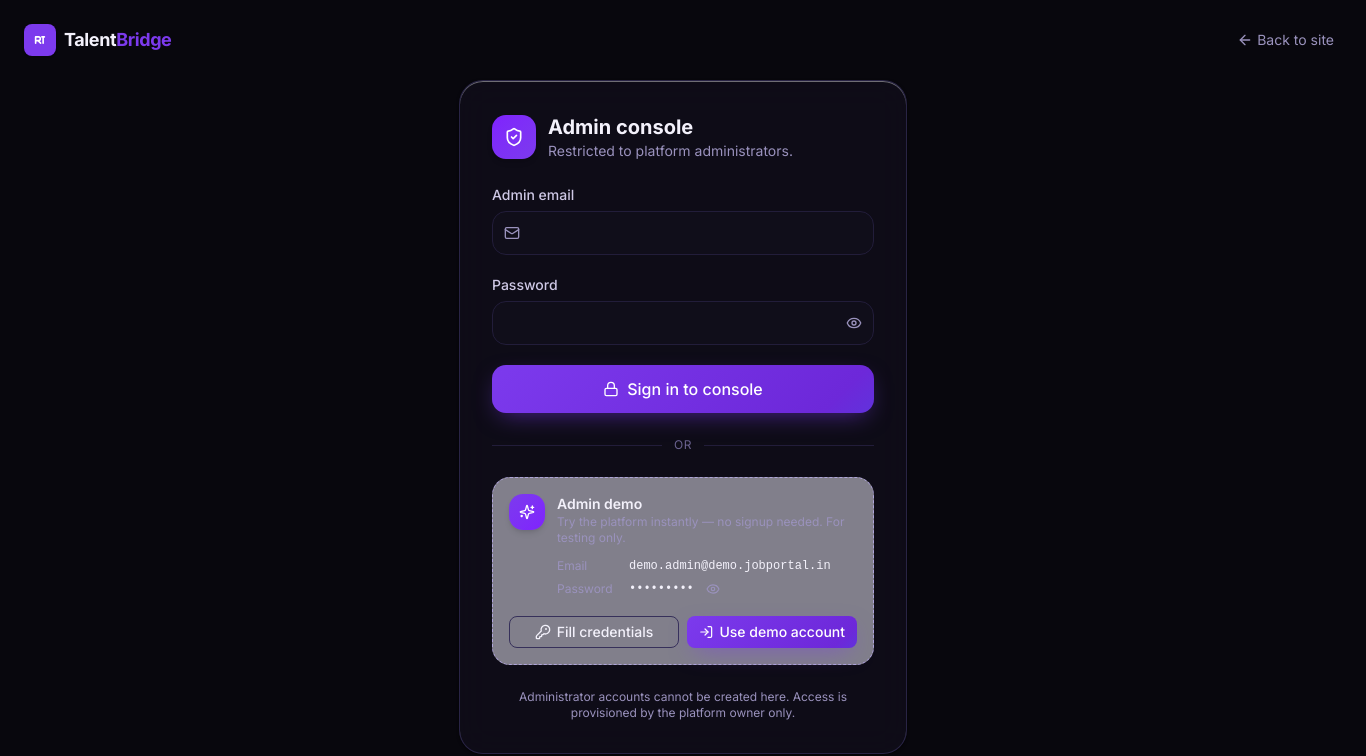
admin login page › rejects non-admin credentials with the backend message
Type "asha.verma@demo.jobportal.in" into the field labelled "Admin email".
click(683, 233); type("asha.verma@demo.jobportal.in")  # box [492, 211, 874, 255]
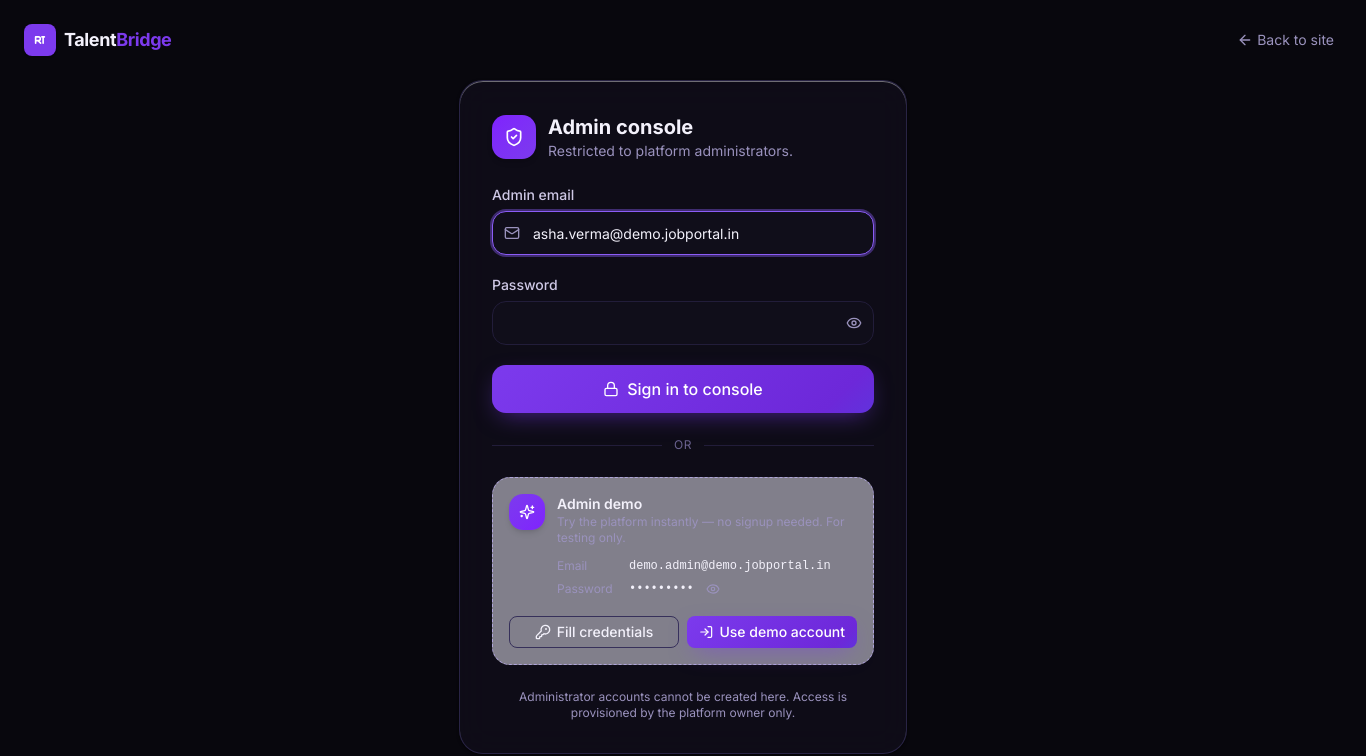
Type "Demo@1234" into the password field labelled "Password".
click(683, 323); type("Demo@1234")  # box [492, 301, 874, 345]
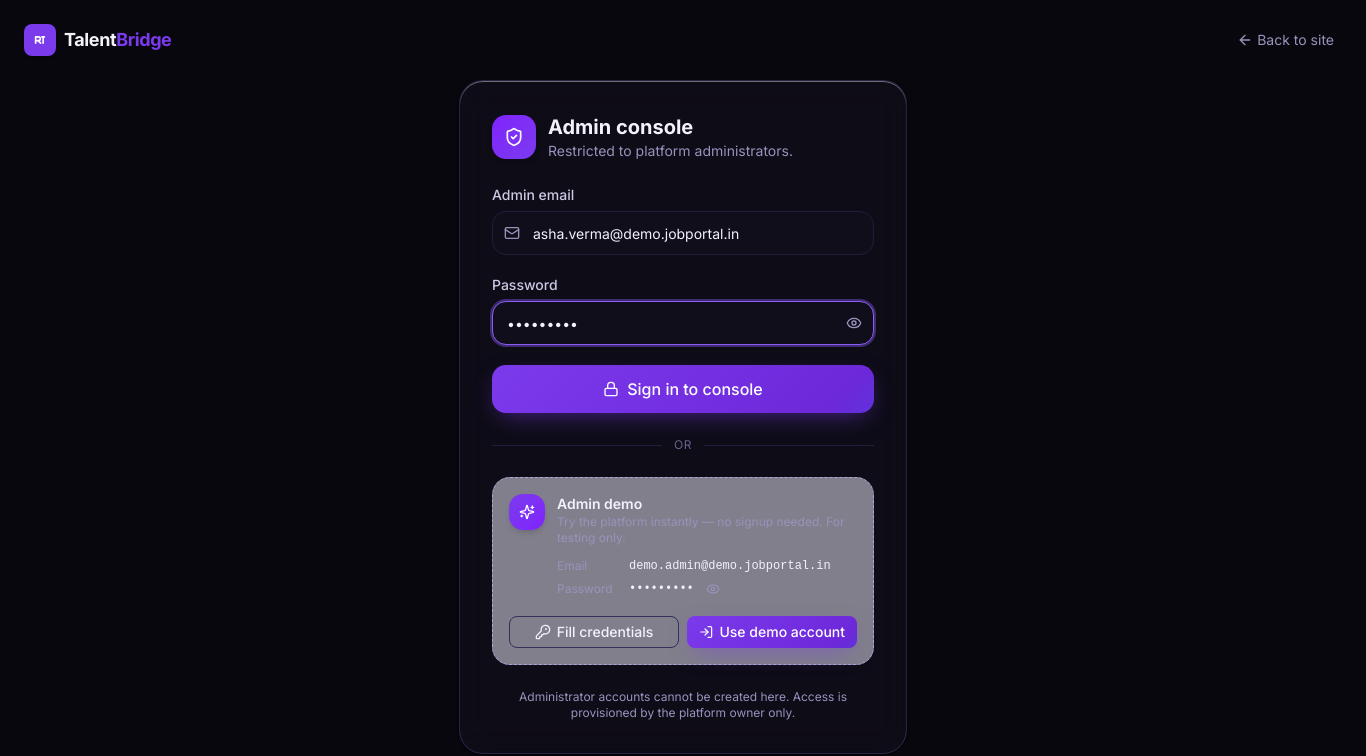
Click the button "Sign in to console".
click(683, 389)  # box [492, 365, 874, 413]
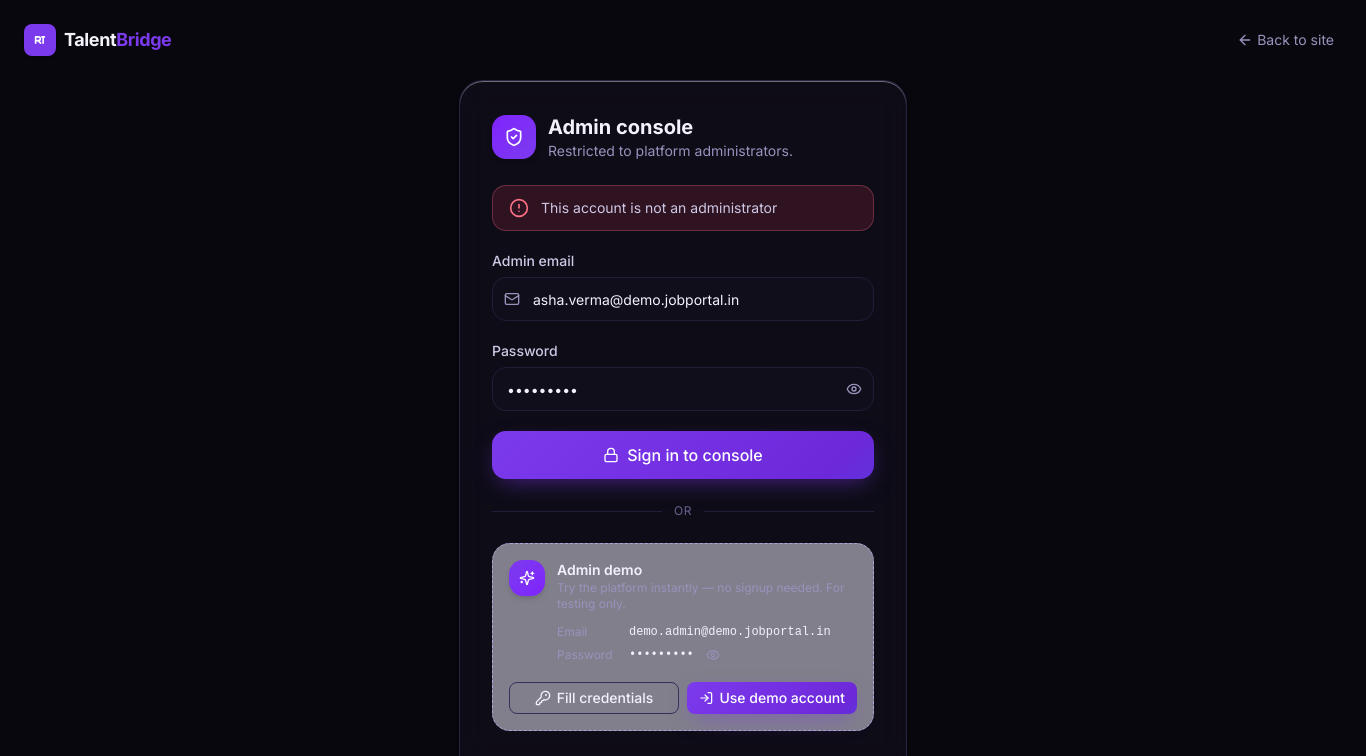
Now the message shows "not an administrator", box [541, 199, 777, 216]
